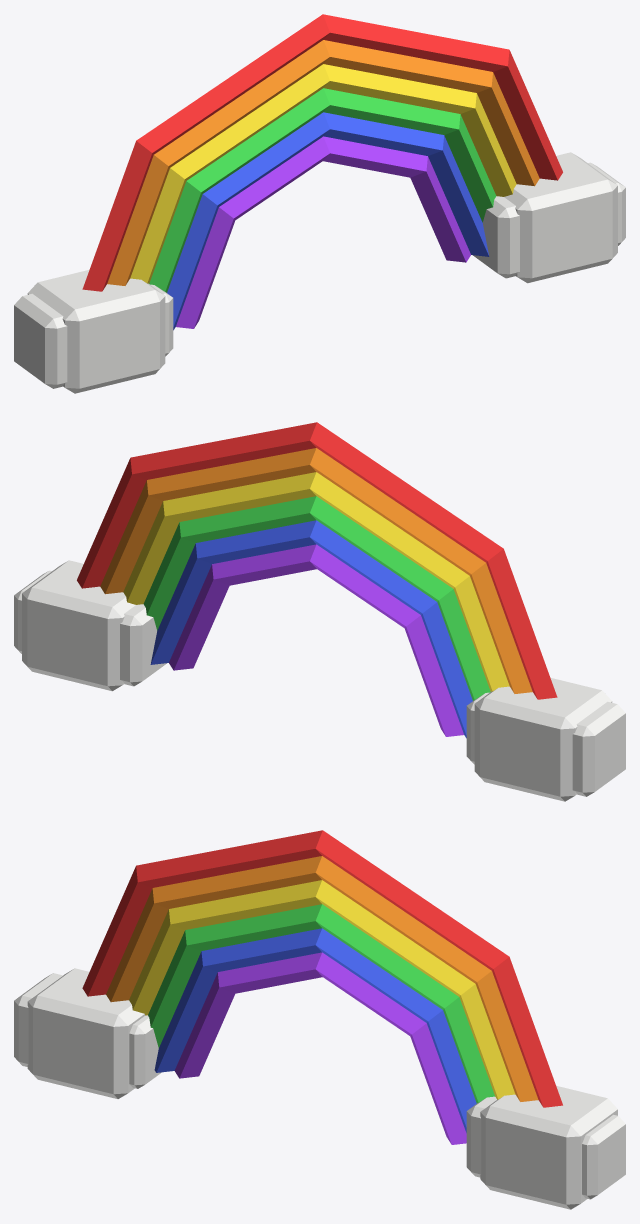
Rendered from Rainbow.fbx.
3 renders of one model, top to bottom at view 1: azimuth 30°, elevation 25°; view 2: azimuth 150°, elevation 25°; view 3: azimuth 330°, elevation 25°, orthographic.
Parts seen in each view (by area): view 1: Rainbow; view 2: Rainbow; view 3: Rainbow.
Part boxes in pixels (<box>): Rainbow: <box>14,14,625,393</box>; Rainbow: <box>14,422,625,801</box>; Rainbow: <box>14,830,625,1209</box>.
Size of the model in its own units: 13.9 by 6.86 by 1.92.
Materials: 1 (1 with a texture image).
